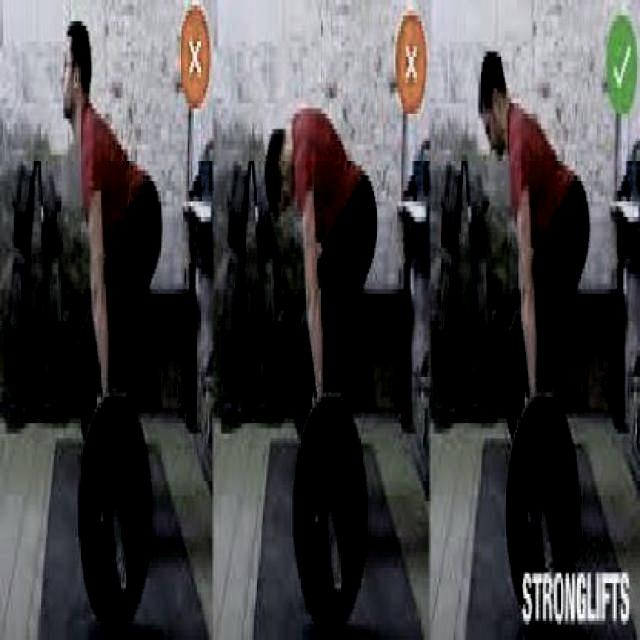barbell: (70, 390, 158, 632), (286, 387, 370, 640)
